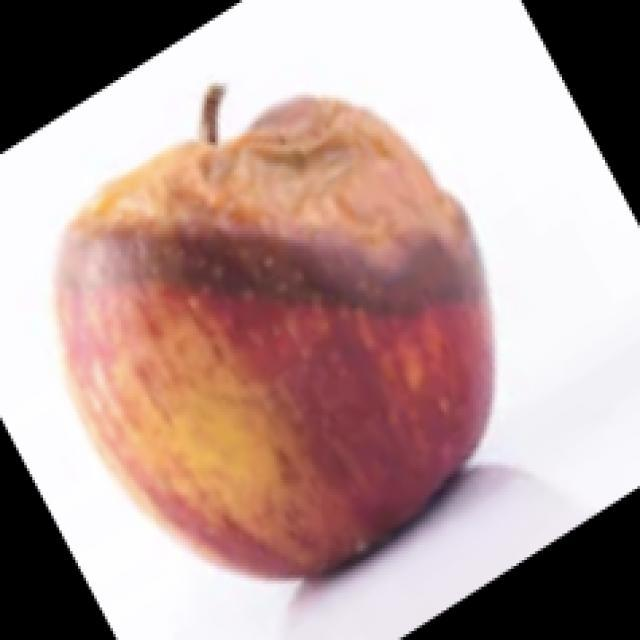Rotten: (55, 89, 498, 584)
